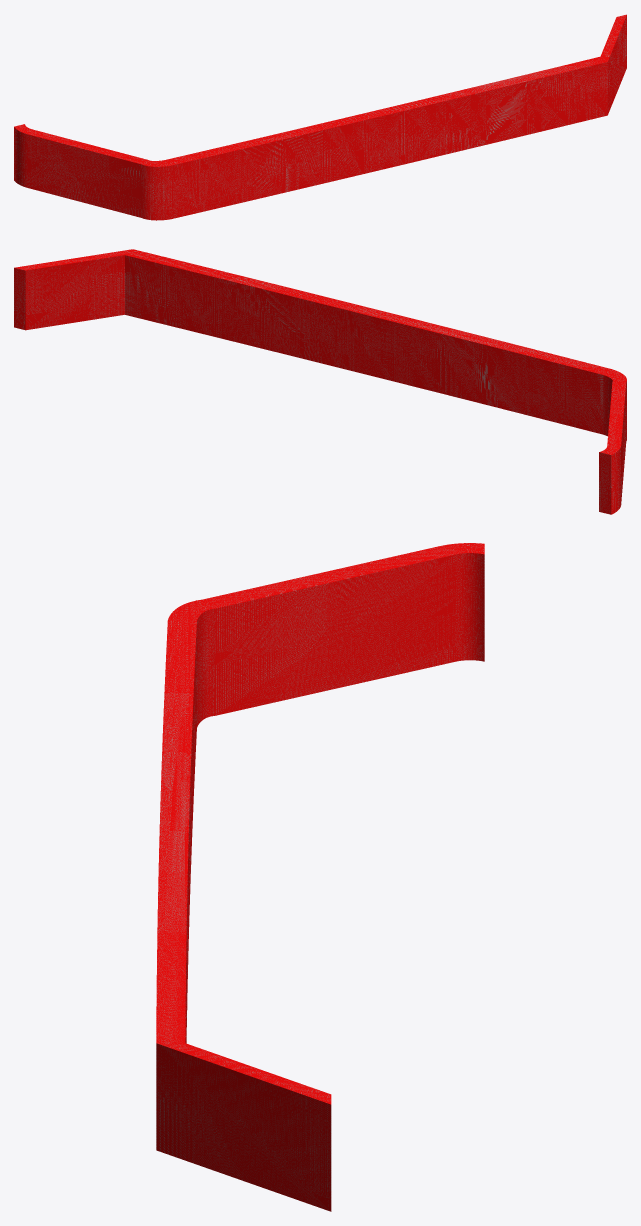
The model's file is original-40.obj.
3 views of the same model, one above another, from view 1: azimuth 30°, elevation 25°; view 2: azimuth 150°, elevation 25°; view 3: azimuth 270°, elevation 25° (orthographic). The views are drawn at different scales.
Visible parts, largest first — view 1: mesh38/mesh38-geometry#mesh38-geometry; view 2: mesh38/mesh38-geometry#mesh38-geometry; view 3: mesh38/mesh38-geometry#mesh38-geometry.
Boxes of the visible parts, left/top/right/bottom form: mesh38/mesh38-geometry#mesh38-geometry: left=14, top=14, right=626, bottom=220; mesh38/mesh38-geometry#mesh38-geometry: left=14, top=249, right=626, bottom=514; mesh38/mesh38-geometry#mesh38-geometry: left=156, top=543, right=484, bottom=1211.
Bounding box in the file's own units: 0.1015 × 0.00903 × 0.0251.
